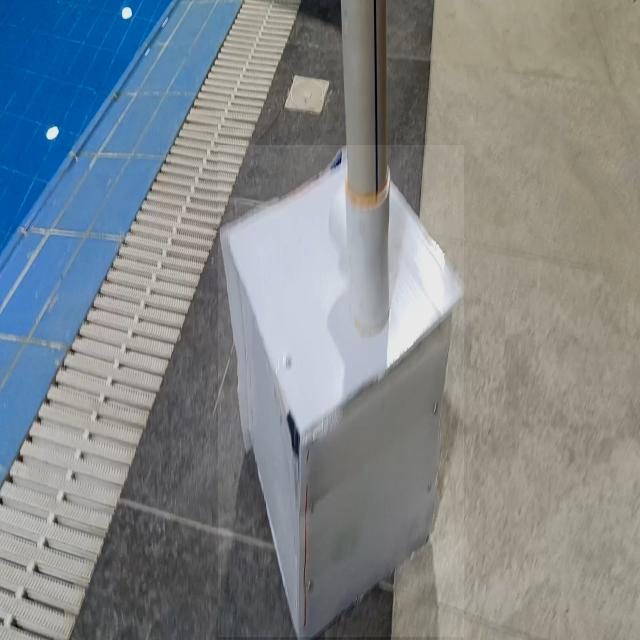Cube: (218, 145, 464, 638)
